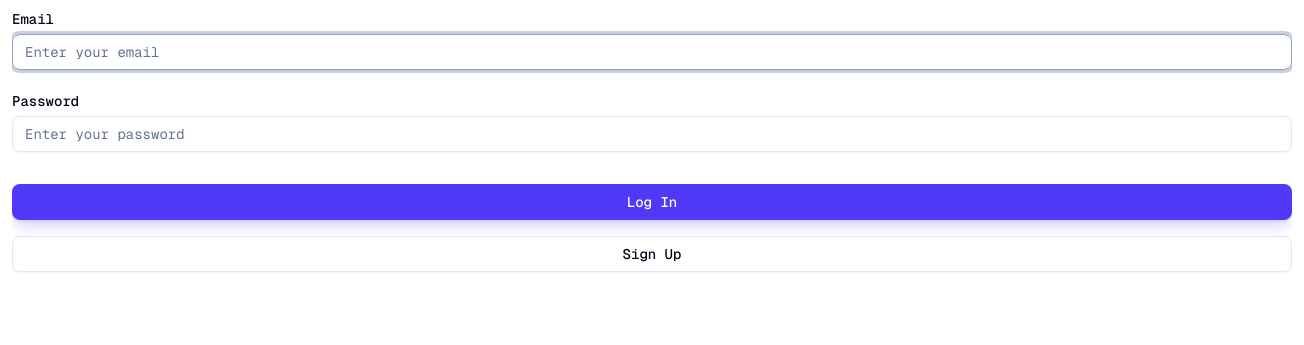
Test: AuthForm › signup › shows error message when signup fails
The width and height of the screenshot is (1304, 345).
Click the button with test id "auth-form-signup": (652,254) [12,236,1292,272]
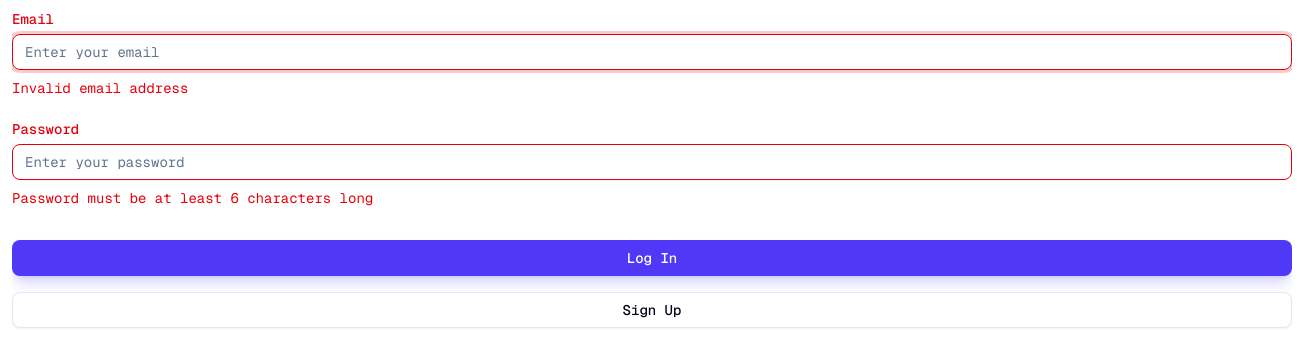
In the field with test id "auth-form-email": (652,52) [12,34,1292,70], type "test@example.com"
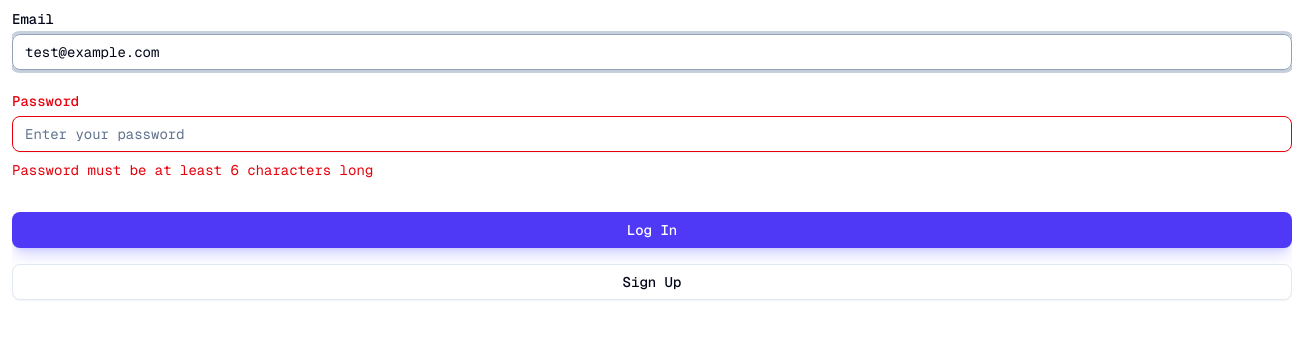
In the password field with test id "auth-form-password": (652,134) [12,116,1292,152], type "password"
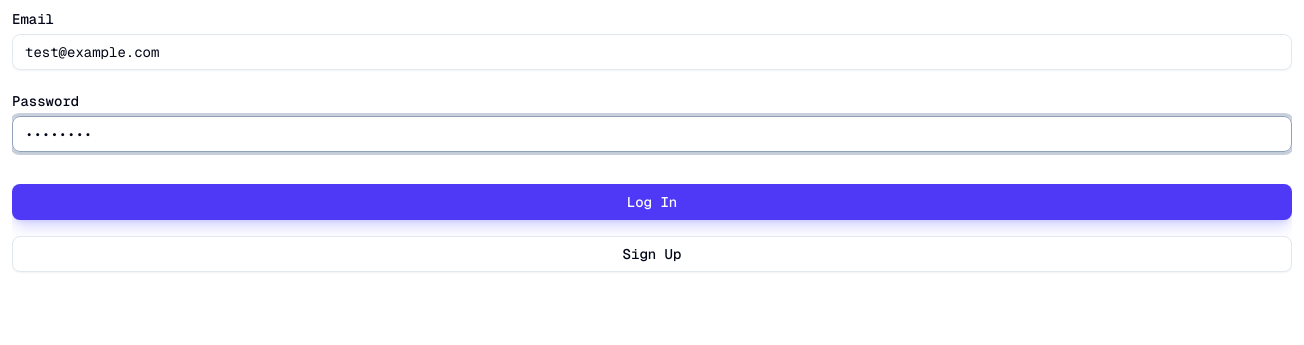
Click the button with test id "auth-form-signup": (652,254) [12,236,1292,272]
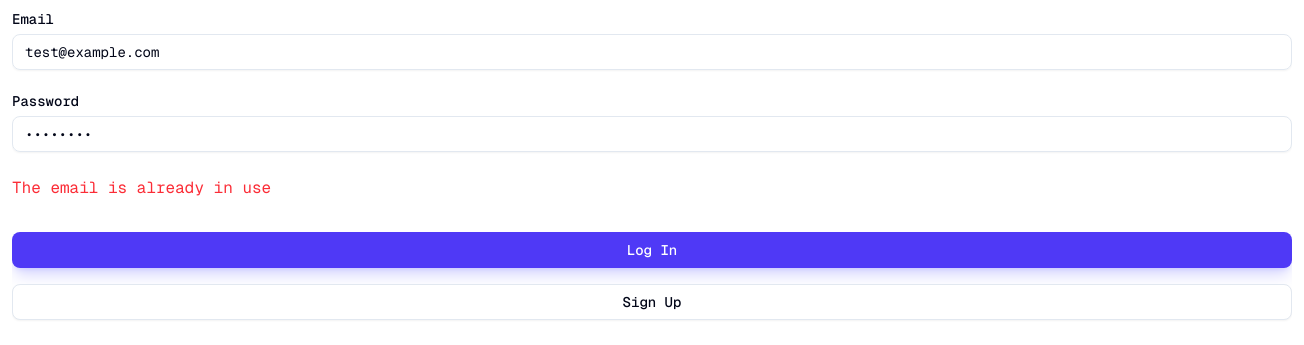
Expected: the text with test id "auth-form-error" reads "The email is already in use", [12,177,271,198]
